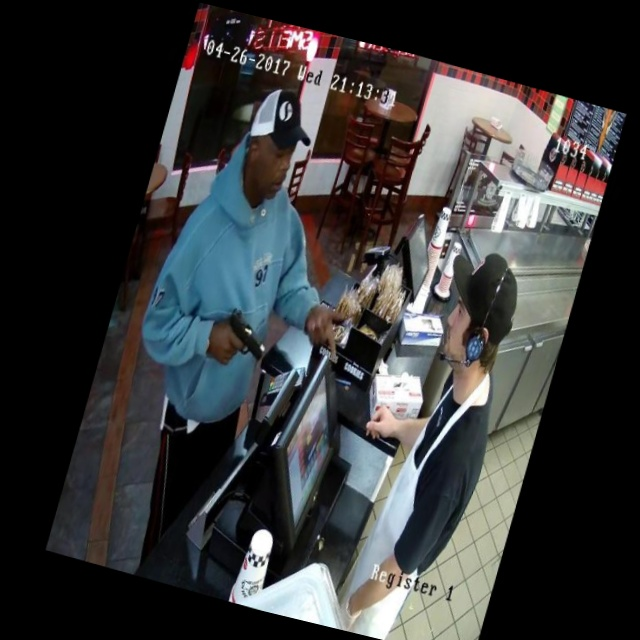gun: (204, 296, 285, 376)
